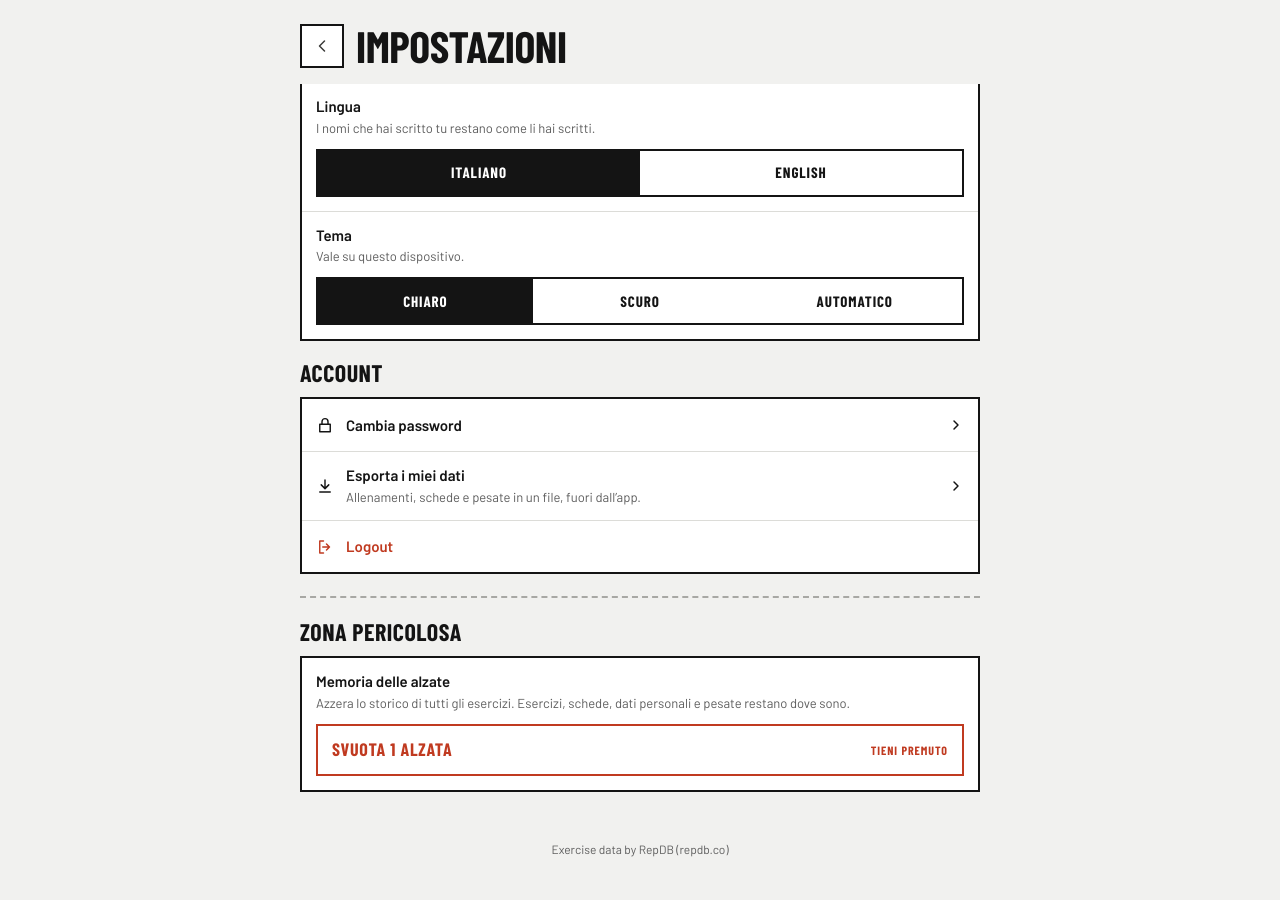
Test case: svuotare le alzate si fa tenendo premuto › da tastiera chiede conferma, e non svuota da solo
(page scrolled)
Click the button "Svuota 1 alzata Tieni premuto" at [392, 749], box x1=316 y1=724 x2=964 y2=776
(page scrolled)
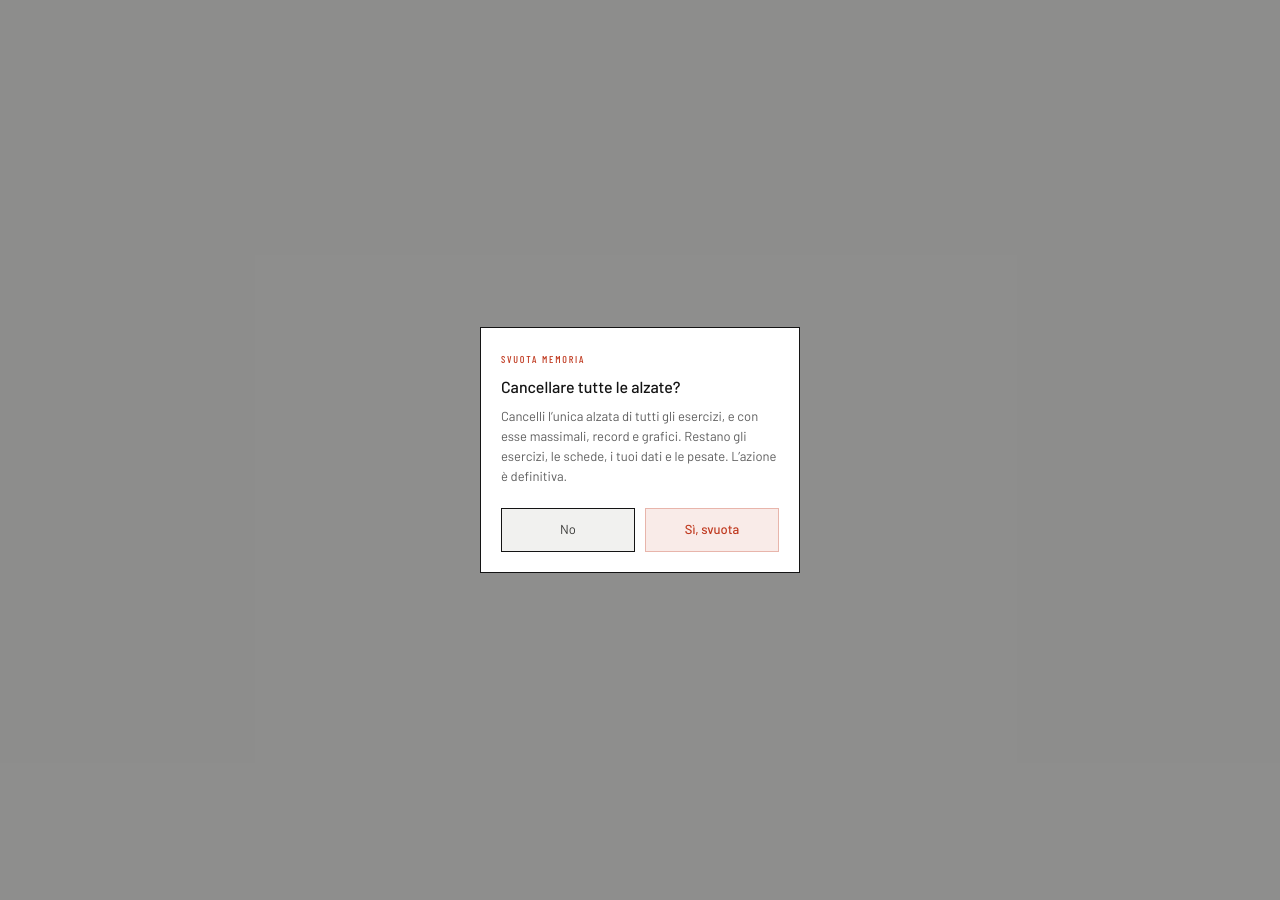
expect the text "Cancellare tutte le alzate?" is shown: met, box x1=501 y1=377 x2=680 y2=396
